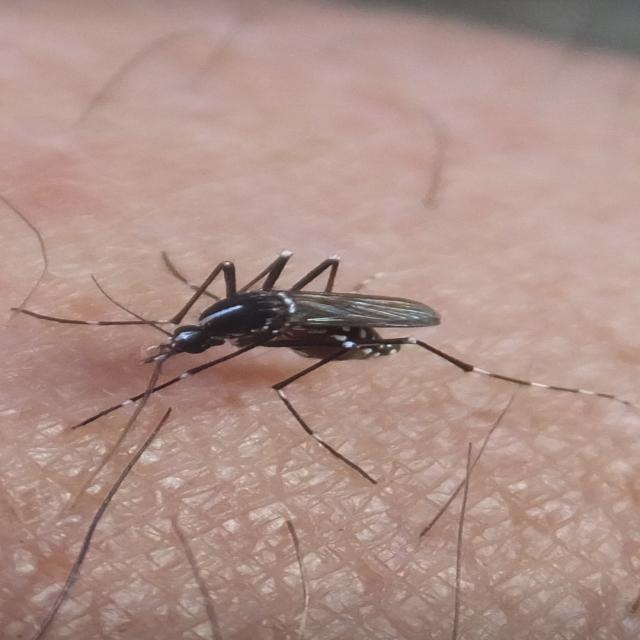albopictus: (6, 222, 607, 546)
